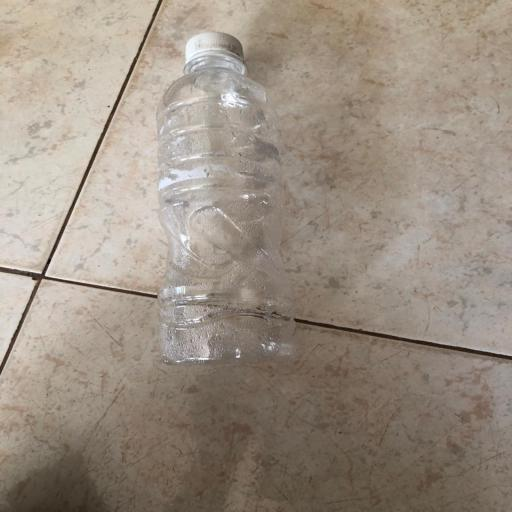waste: (144, 17, 328, 384)
